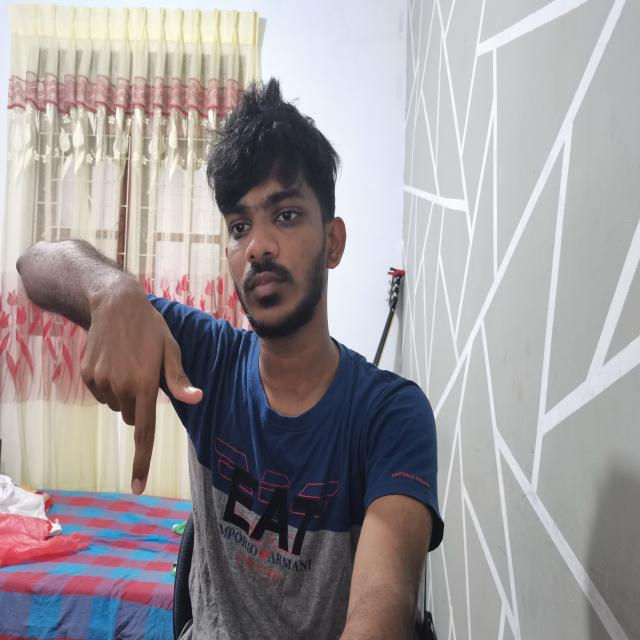Yes: (74, 282, 218, 512)
